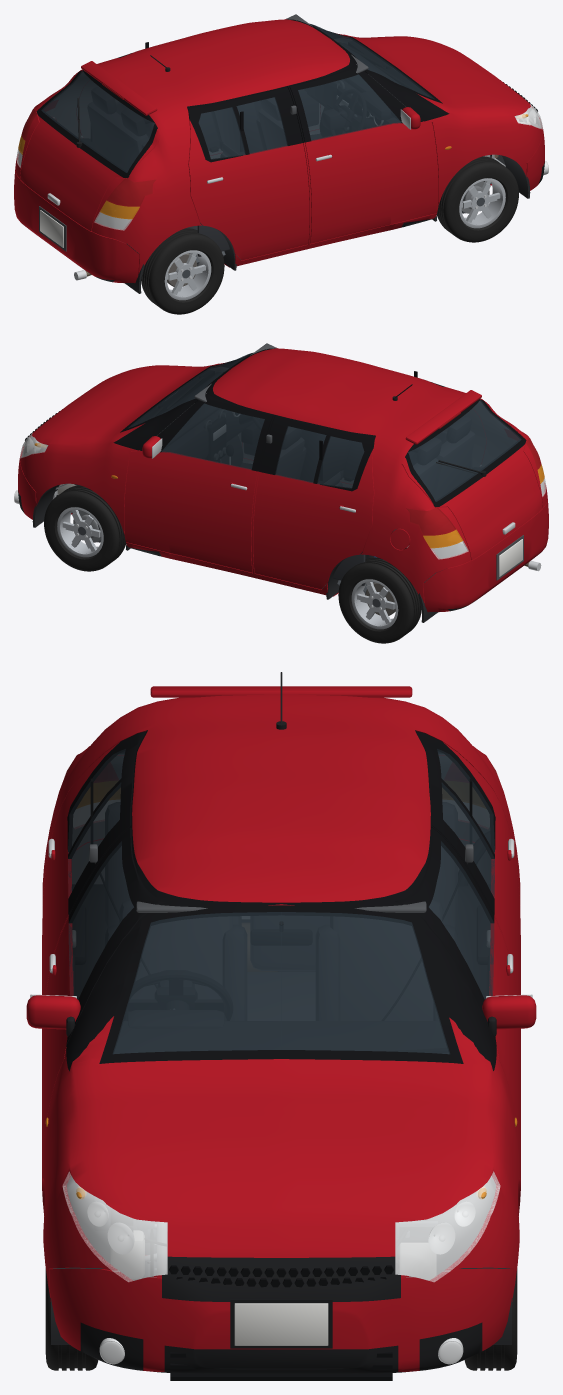
File: suzuki_swift.glb
The picture shows the model from 3 angles, top to bottom: view 1: azimuth 30°, elevation 25°; view 2: azimuth 150°, elevation 25°; view 3: azimuth 270°, elevation 25°; orthographic projection. The views are drawn at different scales.
Visible parts, largest first — view 1: casco, puerta_del_der, puerta_tra_der, porton, paragolpes_tra, rueda_tra_der, rueda_del_der, asiento_trasero, tablero, parabrisas, calavera_der, asiento_izq (+9 smaller); view 2: casco, puerta_del_izq, puerta_tra_izq, porton, paragolpes_tra, rueda_tra_izq, rueda_del_izq, tablero, asiento_trasero, parabrisas, calavera_izq, asiento_der (+7 smaller); view 3: casco, parabrisas, paragolpes_del, parrilla, puerta_del_izq, puerta_del_der, asiento_izq, tablero, puerta_tra_der, puerta_tra_izq, asiento_trasero, asiento_der (+12 smaller).
Part boxes in pixels (x1=…): casco: x1=15, y1=19, x2=542, y2=293; puerta_del_der: x1=289, y1=63, x2=438, y2=243; puerta_tra_der: x1=187, y1=86, x2=309, y2=260; porton: x1=20, y1=61, x2=161, y2=231; paragolpes_tra: x1=14, y1=170, x2=139, y2=283; rueda_tra_der: x1=141, y1=228, x2=224, y2=314; rueda_del_der: x1=436, y1=156, x2=518, y2=242; asiento_trasero: x1=88, y1=87, x2=197, y2=229; tablero: x1=236, y1=44, x2=422, y2=257; parabrisas: x1=309, y1=23, x2=442, y2=103; calavera_der: x1=94, y1=178, x2=156, y2=230; asiento_izq: x1=210, y1=103, x2=262, y2=156; casco: x1=20, y1=348, x2=547, y2=622; puerta_del_izq: x1=124, y1=392, x2=273, y2=572; puerta_tra_izq: x1=253, y1=415, x2=375, y2=589; porton: x1=401, y1=390, x2=542, y2=560; paragolpes_tra: x1=423, y1=499, x2=548, y2=612; rueda_tra_izq: x1=338, y1=557, x2=421, y2=643; rueda_del_izq: x1=44, y1=485, x2=126, y2=571; tablero: x1=140, y1=372, x2=326, y2=586; asiento_trasero: x1=365, y1=416, x2=474, y2=558; parabrisas: x1=120, y1=352, x2=253, y2=432; calavera_izq: x1=406, y1=507, x2=468, y2=559; asiento_der: x1=300, y1=432, x2=352, y2=485; casco: x1=42, y1=672, x2=520, y2=1344; parabrisas: x1=99, y1=905, x2=463, y2=1063; paragolpes_del: x1=49, y1=1268, x2=513, y2=1372; parrilla: x1=80, y1=1256, x2=482, y2=1380; puerta_del_izq: x1=395, y1=828, x2=536, y2=1170; puerta_del_der: x1=26, y1=828, x2=167, y2=1170; asiento_izq: x1=316, y1=844, x2=473, y2=1020; tablero: x1=114, y1=1010, x2=448, y2=1242; puerta_tra_der: x1=42, y1=731, x2=145, y2=1039; puerta_tra_izq: x1=417, y1=731, x2=520, y2=1039; asiento_trasero: x1=105, y1=802, x2=457, y2=1020; asiento_der: x1=89, y1=844, x2=246, y2=1020.
Size of the model in its own units: 3.79 by 1.64 by 1.79.
